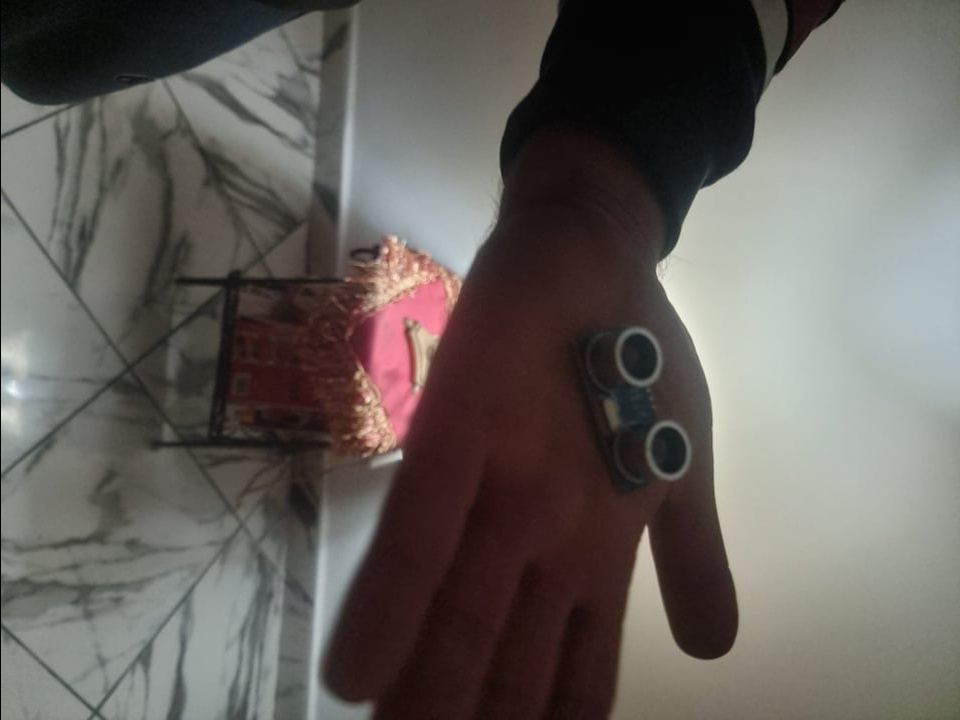SENSOR: (561, 321, 698, 501)
